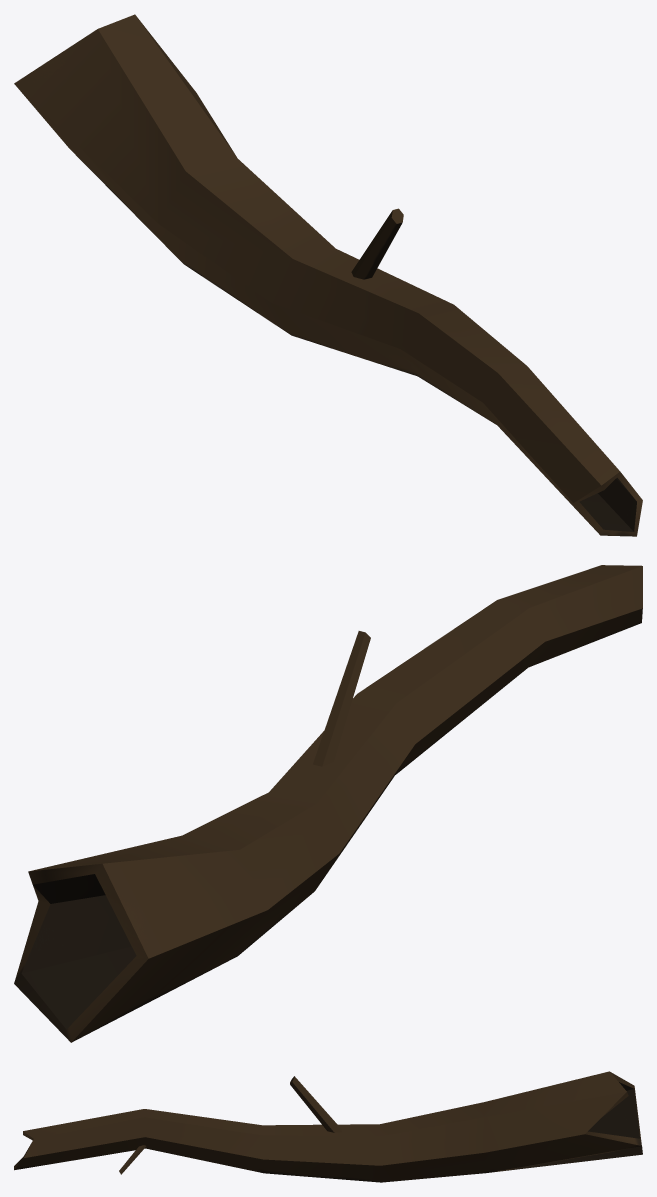
The model's file is treeStump.fbx.
The picture shows the model from 3 angles, top to bottom: view 1: azimuth 30°, elevation 25°; view 2: azimuth 150°, elevation 25°; view 3: azimuth 270°, elevation 25°; orthographic projection. The views are drawn at different scales.
Parts seen in each view (by area): view 1: treeStump; view 2: treeStump; view 3: treeStump.
Part boxes in pixels (x1,y1,x2,y2): treeStump: (14,14,642,536); treeStump: (14,565,642,1042); treeStump: (14,1071,642,1182).
Size of the model in its own units: 3.36 by 3.85 by 21.46.
